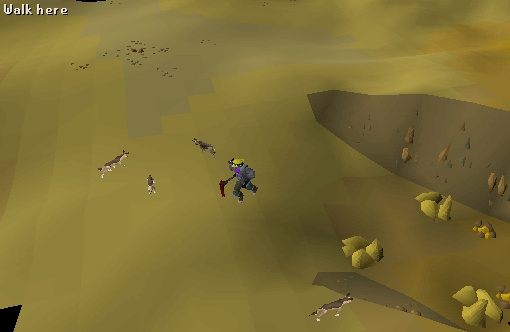gold: (407, 183, 459, 226), (337, 227, 387, 268)
